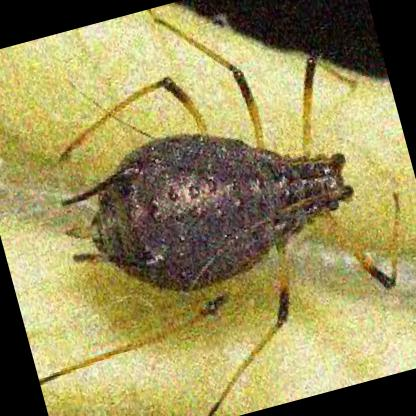uroleucon compositae: (65, 57, 354, 297)
